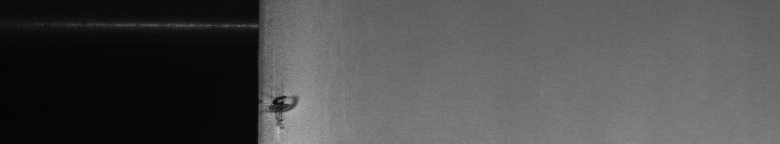hb: (268, 19, 304, 136)
